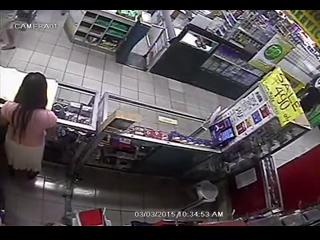Normal: (0, 71, 58, 182), (0, 10, 18, 54)
